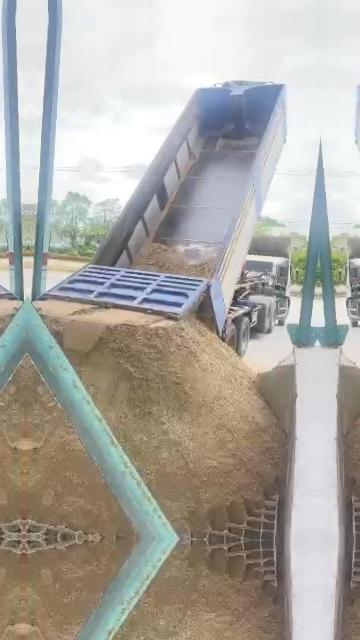sand: (36, 302, 285, 529), (24, 364, 134, 538), (255, 360, 295, 435), (131, 243, 215, 277), (197, 294, 215, 331)
